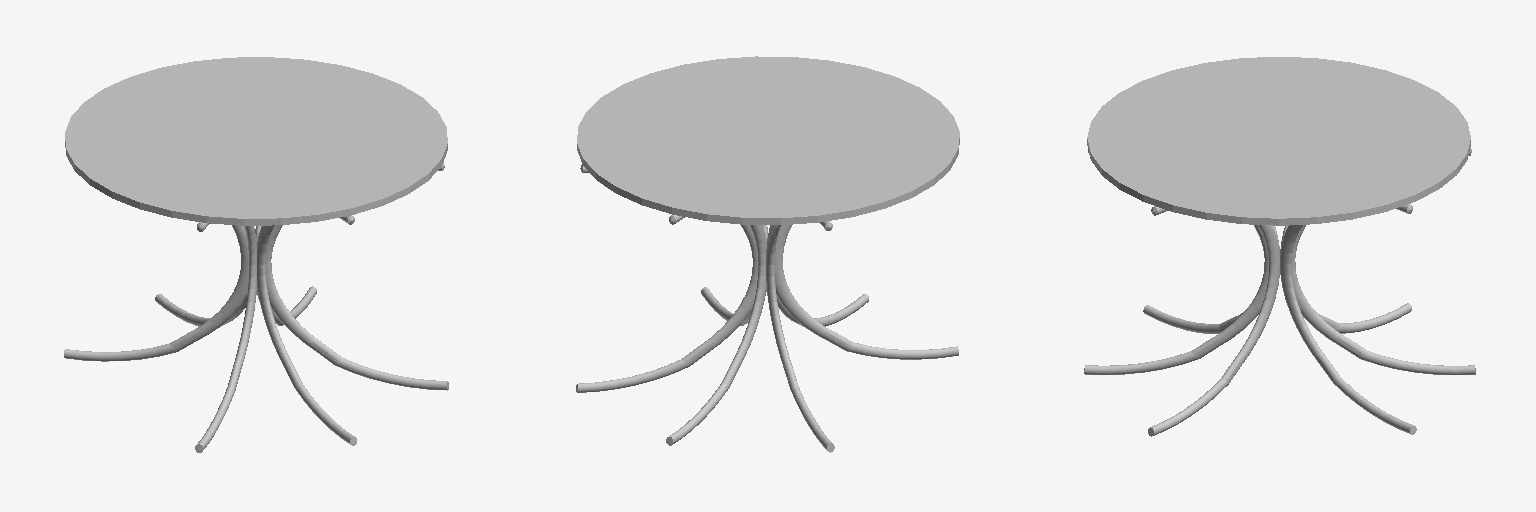
File: table.obj
The picture shows the model from 3 angles: view 1: azimuth 30°, elevation 25°; view 2: azimuth 150°, elevation 25°; view 3: azimuth 270°, elevation 25°; orthographic projection.
Parts seen in each view (by area): view 1: Object_2.001, Object_2; view 2: Object_2.001, Object_2; view 3: Object_2.001, Object_2.
Boxes of the visible parts, x1=… form: Object_2.001: x1=65, y1=57, x2=447, y2=225; Object_2: x1=64, y1=162, x2=448, y2=452; Object_2.001: x1=577, y1=56, x2=959, y2=224; Object_2: x1=576, y1=164, x2=958, y2=452; Object_2.001: x1=1087, y1=57, x2=1470, y2=225; Object_2: x1=1084, y1=147, x2=1475, y2=436.
Bounding box in the file's own units: 11.43 × 7.81 × 11.67.